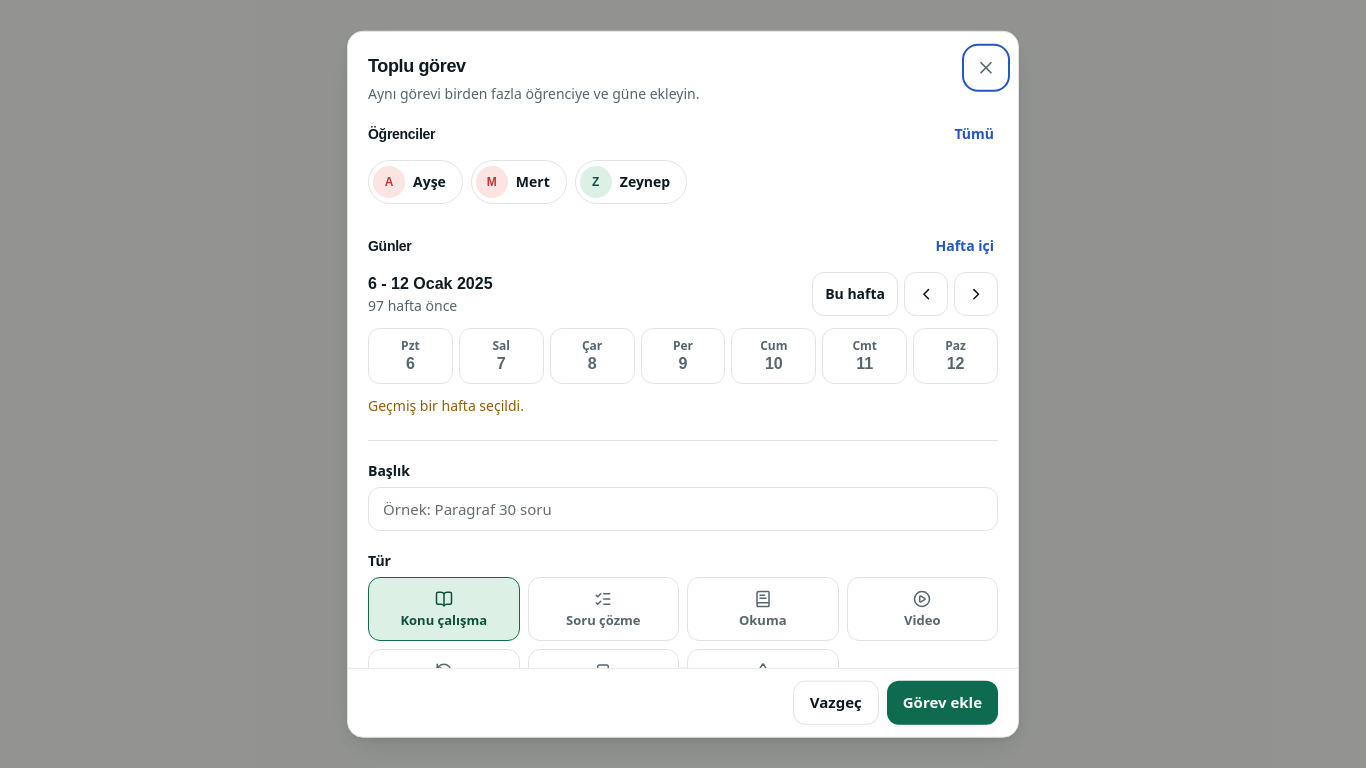
Test case: toplu görev › gün ya da öğrenci seçilmeden gönderilirse nedenini söyler
Type "Paragraf 20 soru" into the field labelled "Başlık".
click(683, 509); type("Paragraf 20 soru")  # box [368,487,998,531]
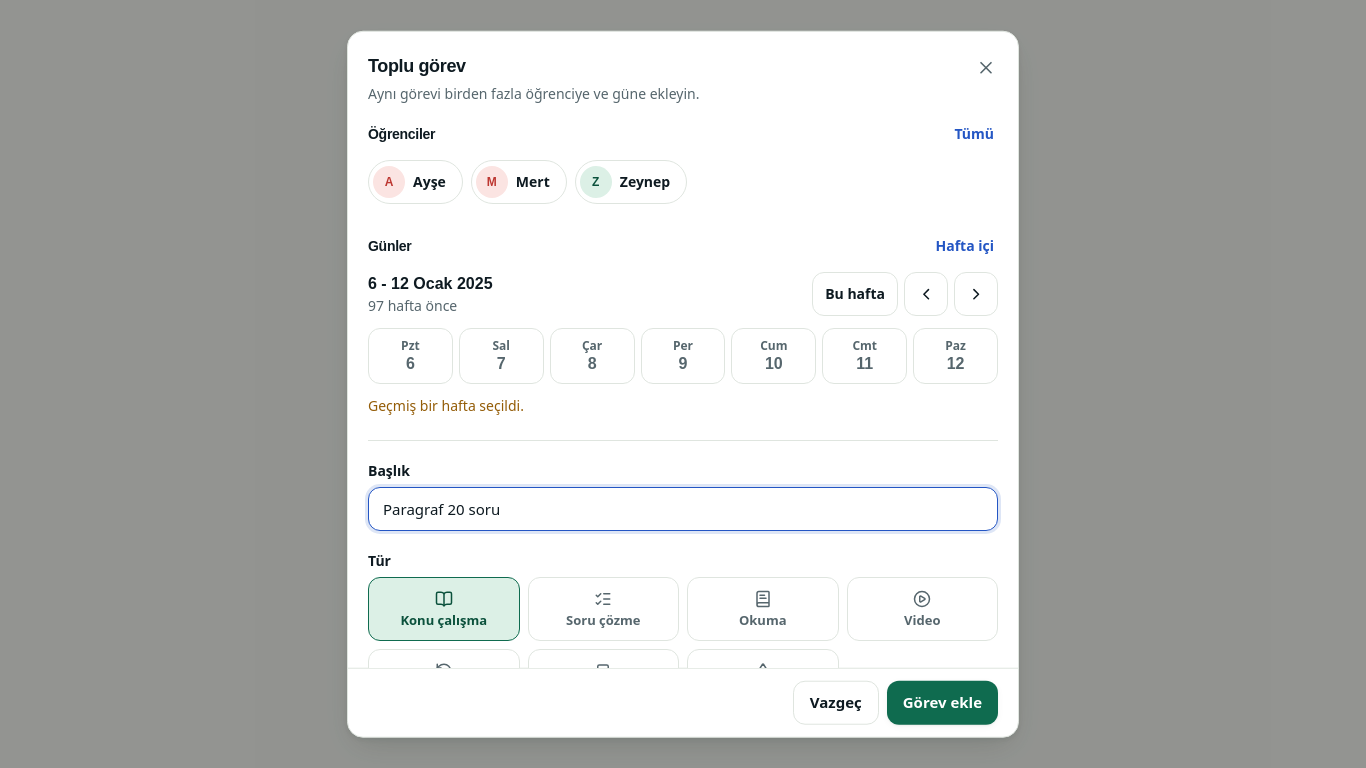
Click the button "Görev ekle".
click(942, 702)  # box [887,680,998,724]
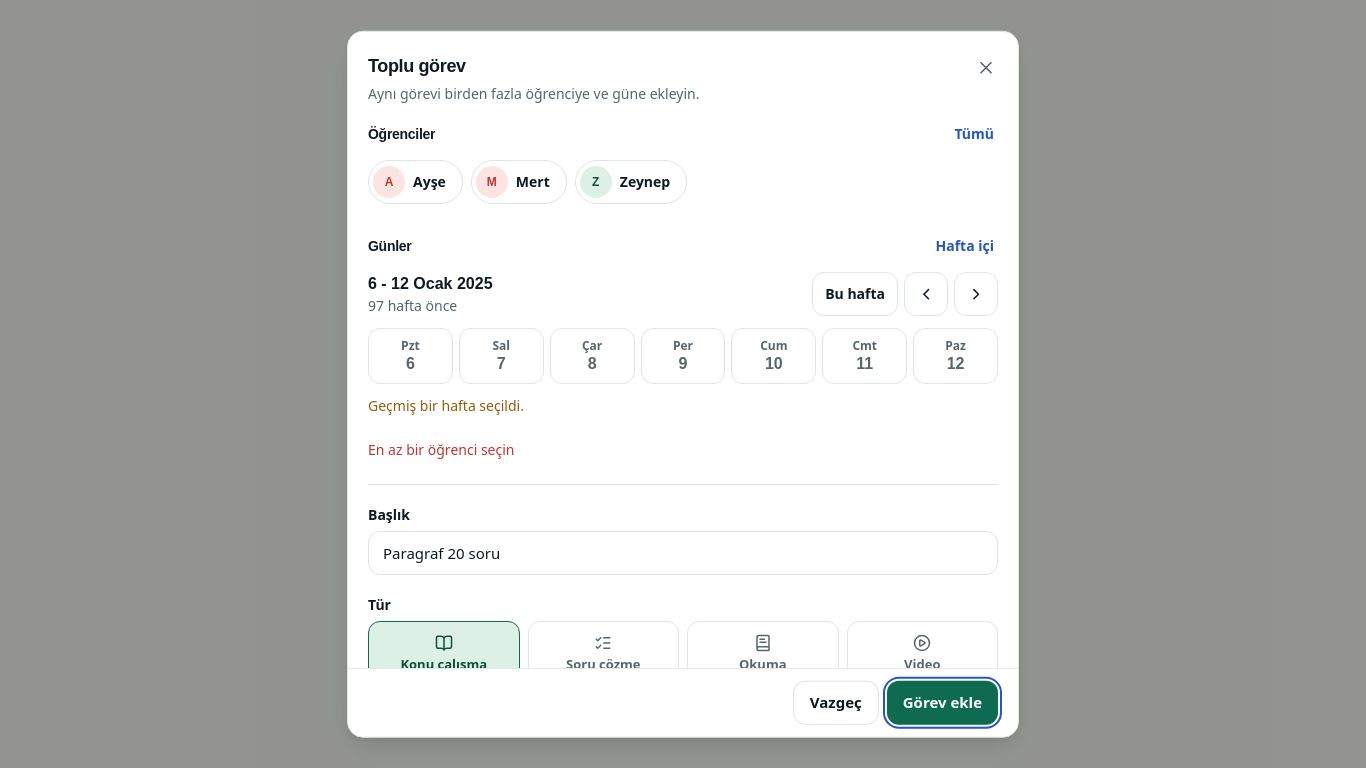
Now the text "En az bir öğrenci seçin" is shown, box [368,440,514,459]
Click the button "Tümü".
click(974, 134)  # box [950,112,998,156]
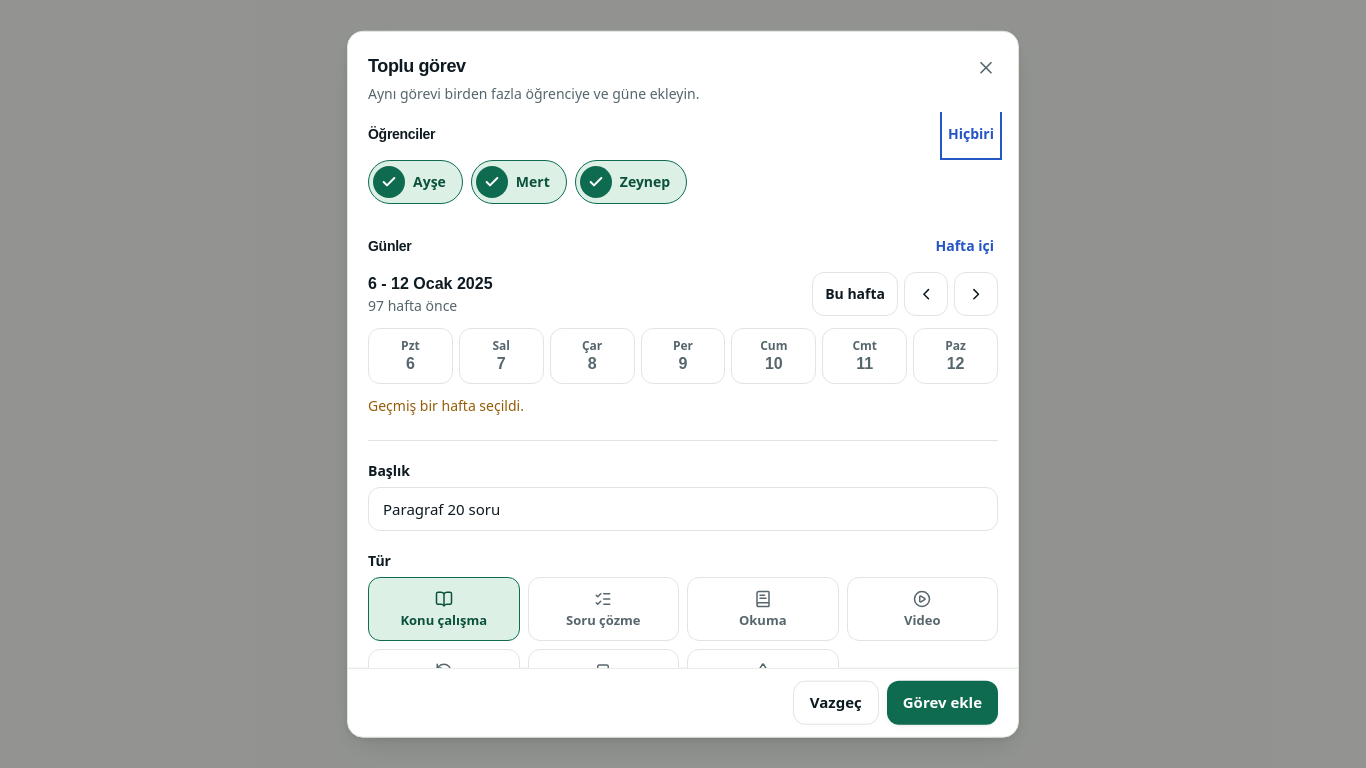
Click the button "Görev ekle".
click(942, 702)  # box [887,680,998,724]
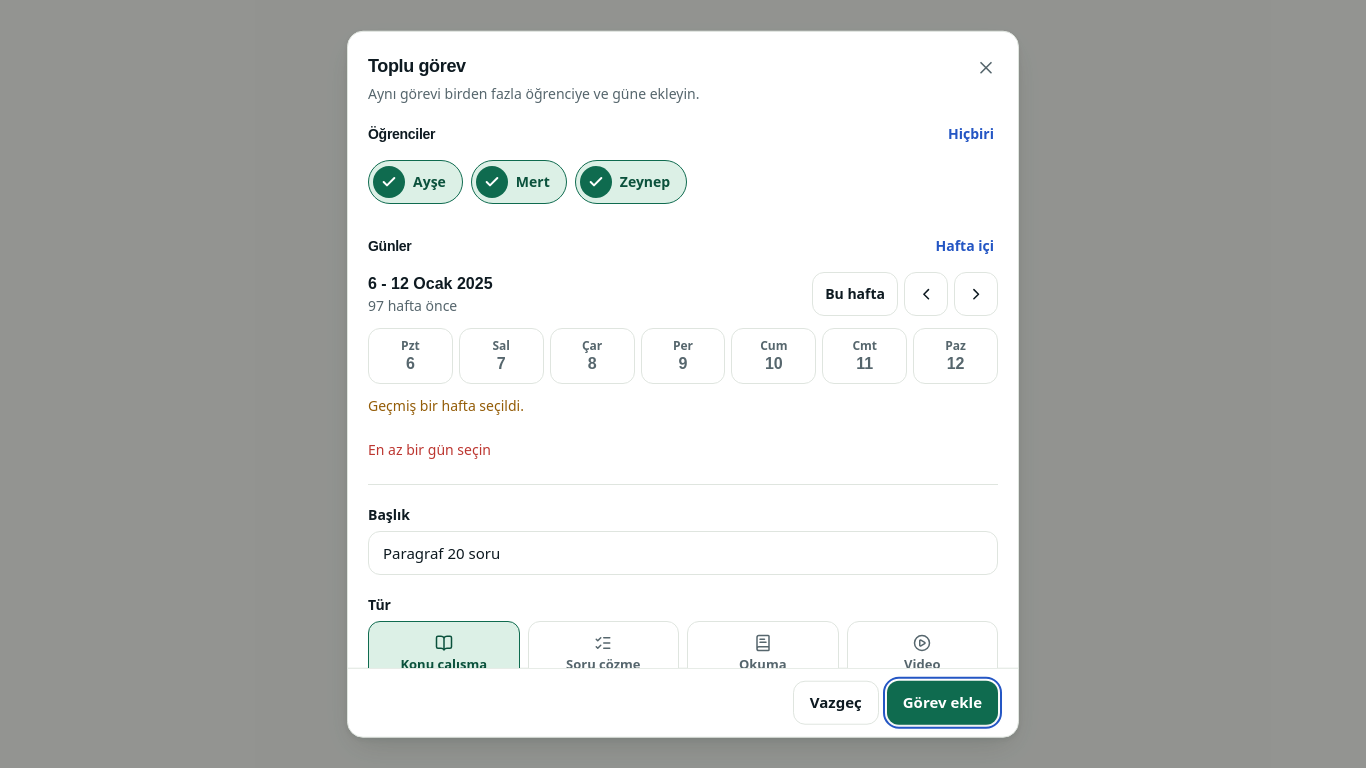
Now the text "En az bir gün seçin" is shown, box [368,440,491,459]
